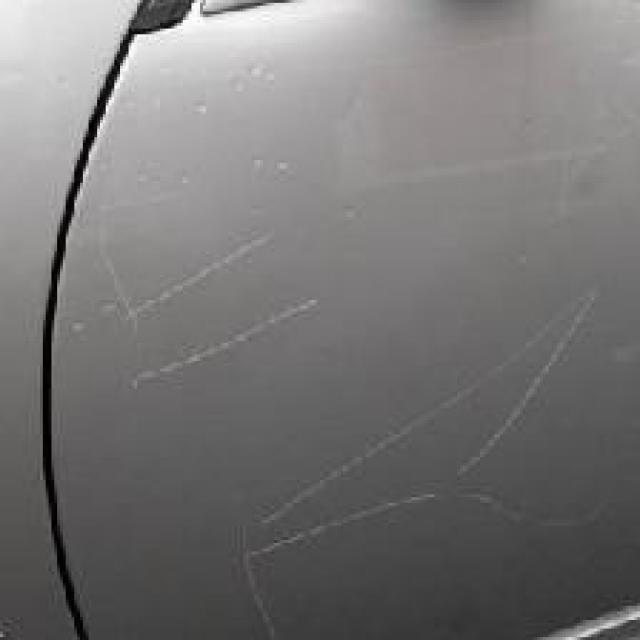damaged: (65, 186, 606, 614)
